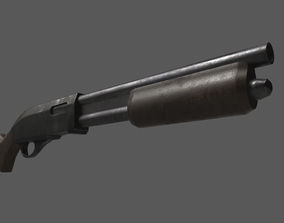weapon: (1, 41, 275, 171)
